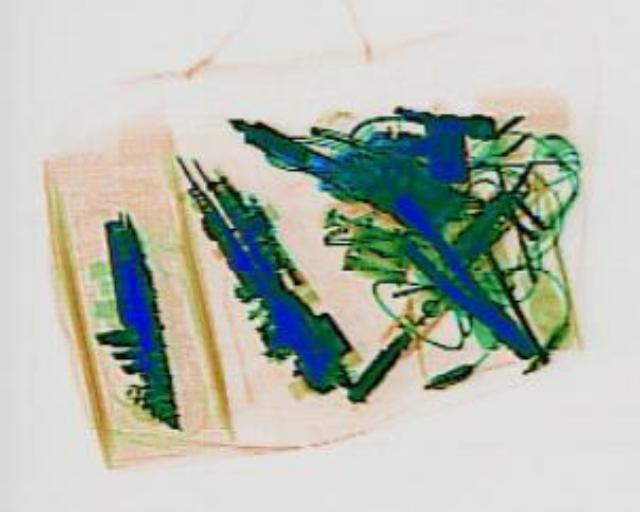Pliers: (362, 188, 544, 362)
